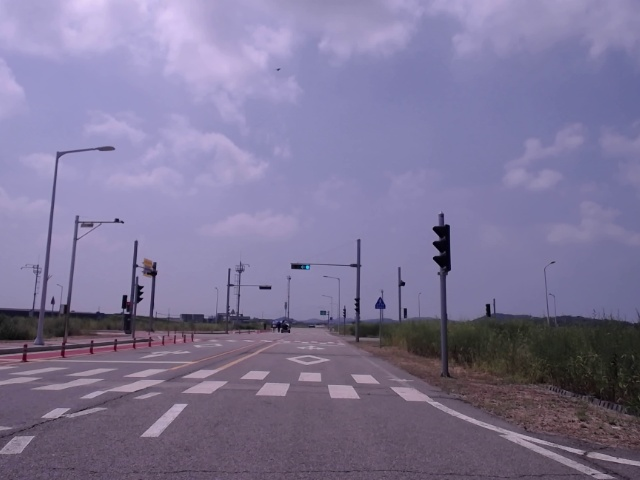all_green_4: (292, 264, 311, 271)
